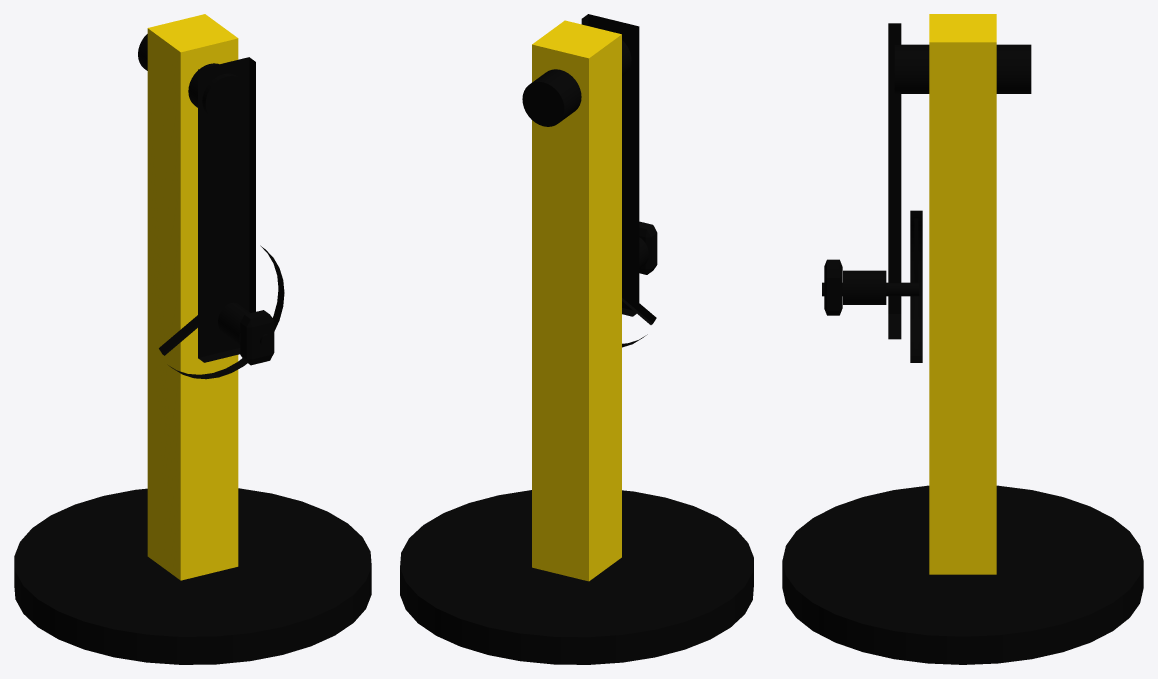
File: rwp.fbx
3 renders of one model, left to right at view 1: azimuth 30°, elevation 25°; view 2: azimuth 150°, elevation 25°; view 3: azimuth 270°, elevation 25°, orthographic.
Parts seen in each view (by area): view 1: Static_Platform, Static_Arm, Arm, Arm_Joint, Handle, Wheel, Handle_Joint; view 2: Static_Arm, Static_Platform, Arm, Arm_Joint, Handle; view 3: Static_Platform, Static_Arm, Arm, Arm_Joint, Wheel, Handle_Joint, Handle, Handle_Joint_2.
Part boxes in pixels (<box>): Static_Platform: <box>14,488,371,664</box>; Static_Arm: <box>147,14,238,580</box>; Arm: <box>198,57,255,362</box>; Arm_Joint: <box>138,34,247,121</box>; Handle: <box>240,310,274,365</box>; Wheel: <box>159,245,284,379</box>; Handle_Joint: <box>218,302,250,345</box>; Static_Arm: <box>532,20,621,581</box>; Static_Platform: <box>400,490,753,664</box>; Arm: <box>581,14,639,316</box>; Arm_Joint: <box>522,40,631,126</box>; Handle: <box>639,221,657,274</box>; Static_Platform: <box>782,485,1143,664</box>; Static_Arm: <box>929,14,996,574</box>; Arm: <box>888,23,901,339</box>; Arm_Joint: <box>894,44,1031,93</box>; Wheel: <box>910,210,922,362</box>; Handle_Joint: <box>843,270,886,304</box>; Handle: <box>824,259,842,315</box>; Handle_Joint_2: <box>822,282,919,296</box>.
Bounding box in the file's own units: 29.64 × 50.78 × 29.64.
